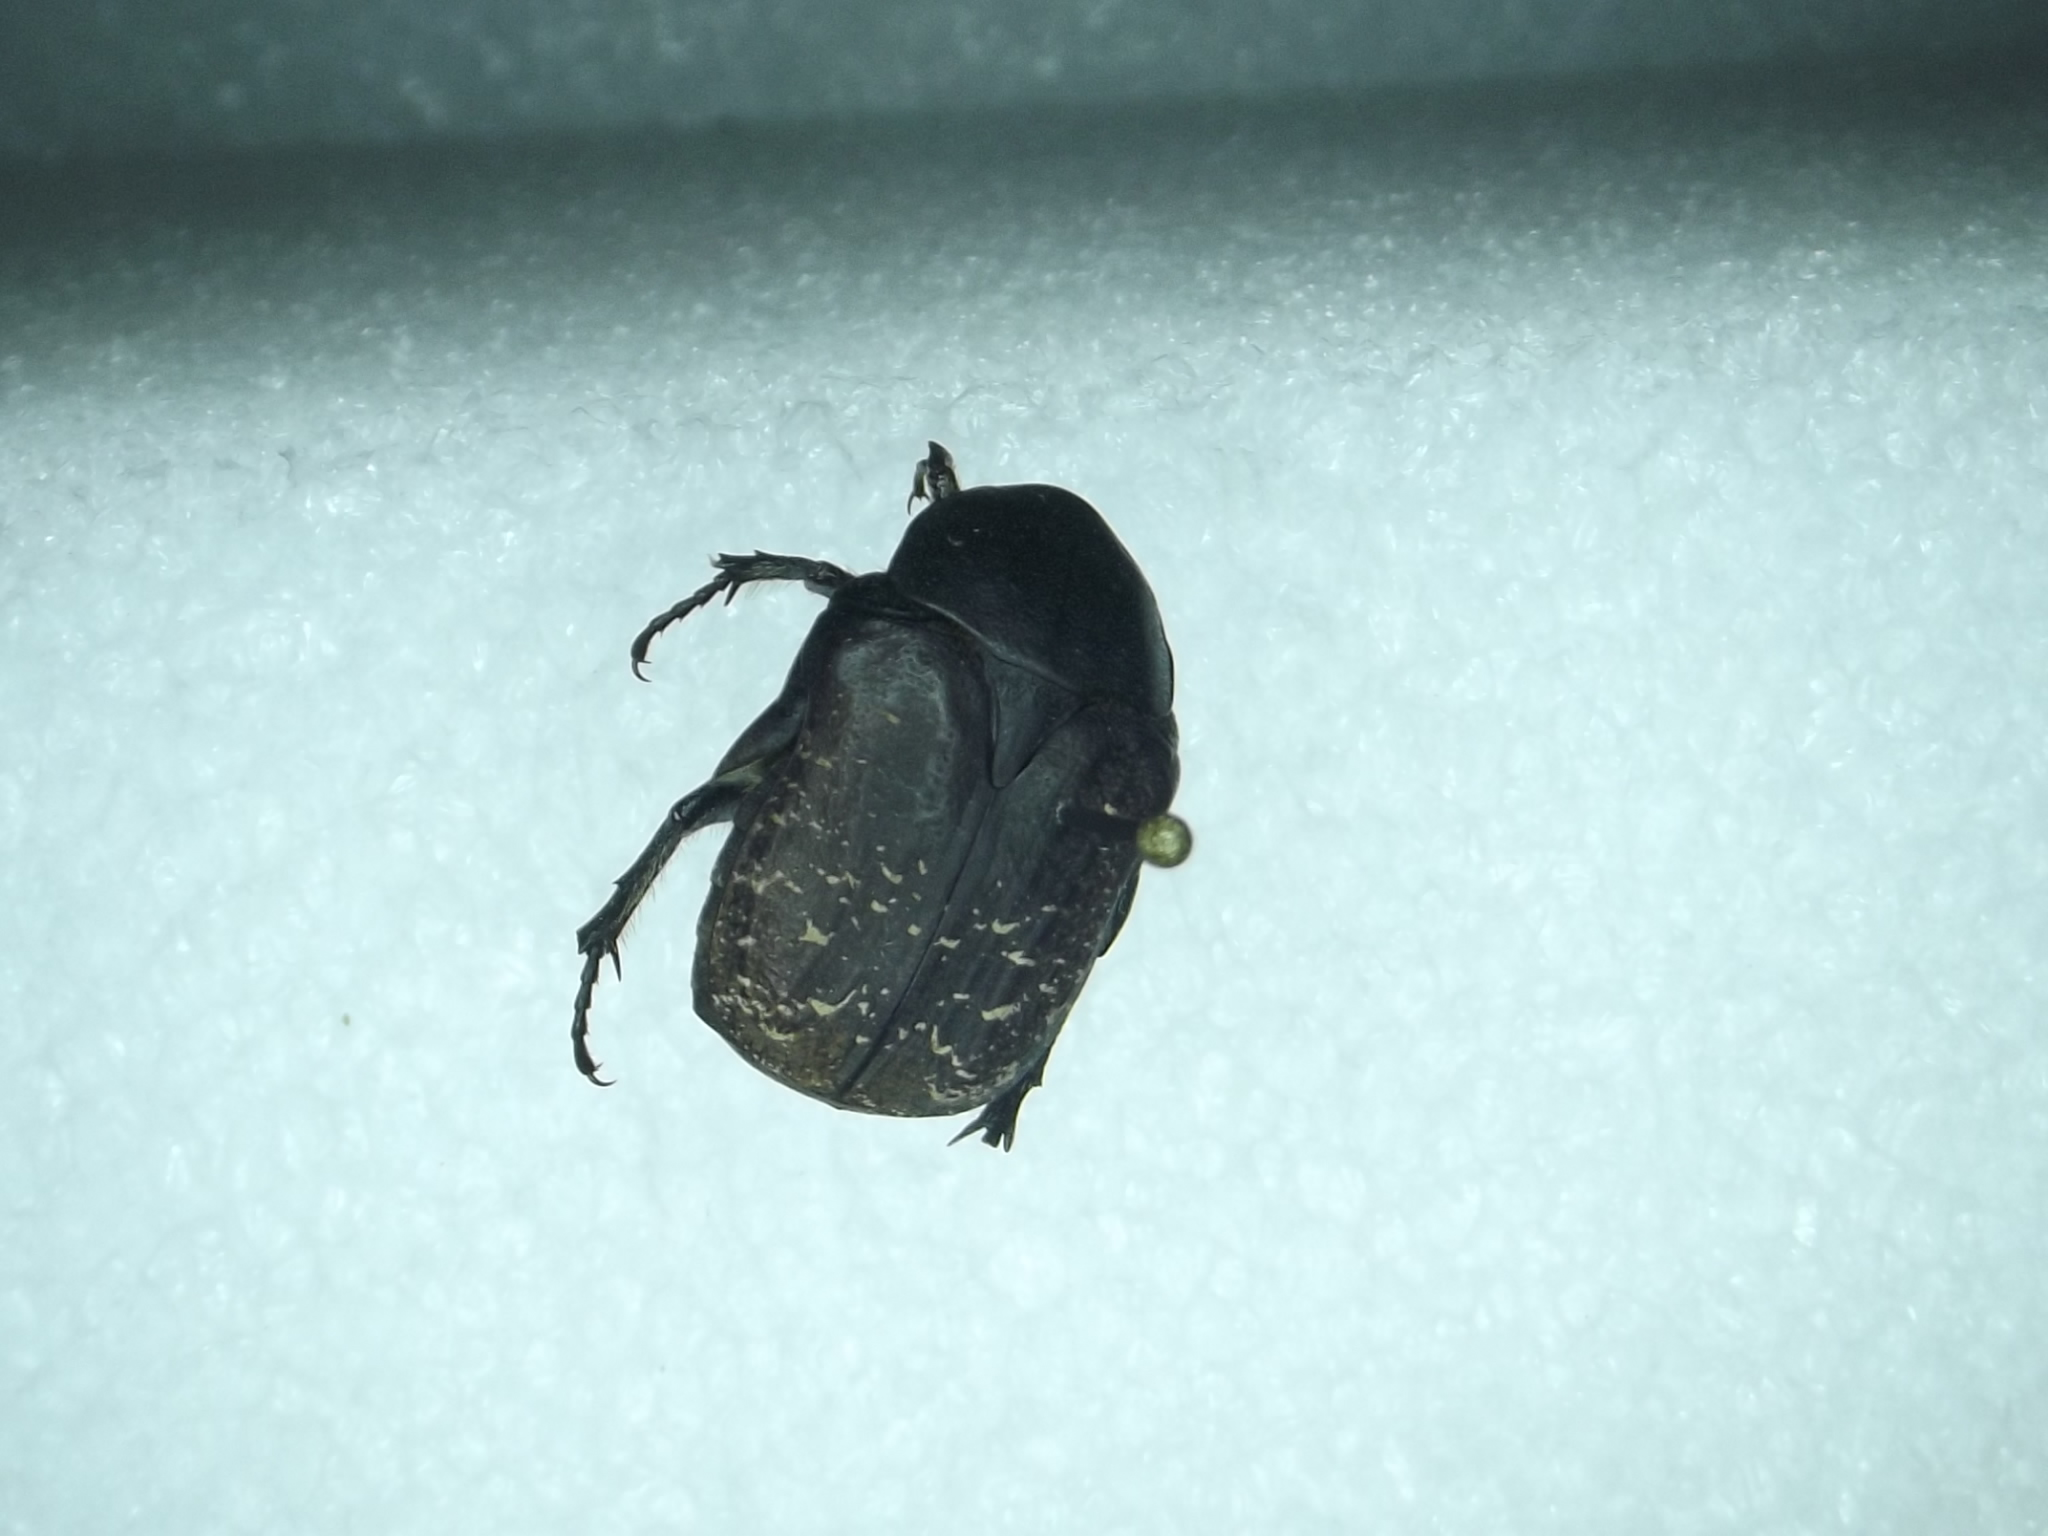Protaetia_oblonga: (553, 432, 1193, 1162)
